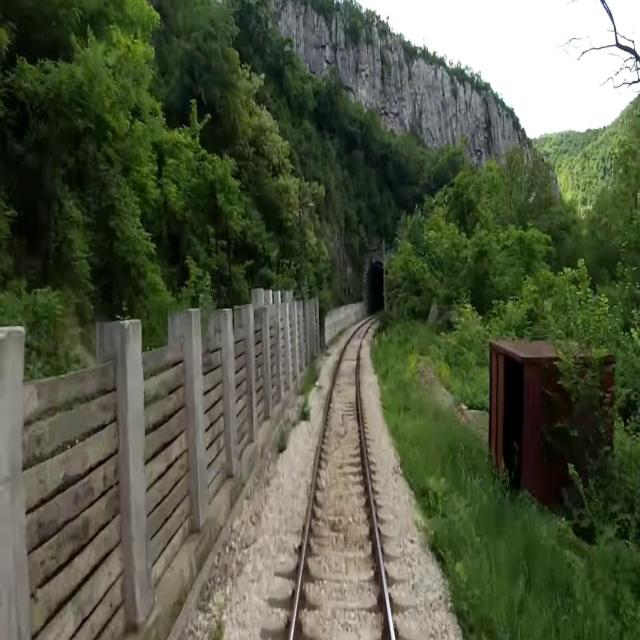rail-track: (295, 320, 390, 639)
